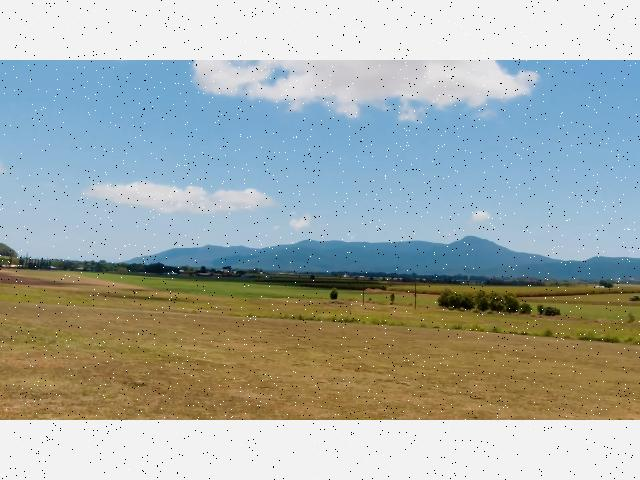Anti-Drone: (286, 210, 298, 220)
